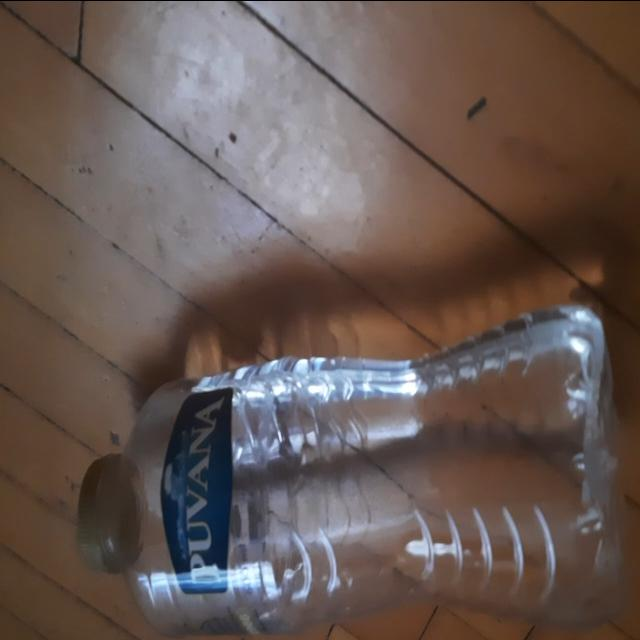Plastic: (77, 300, 640, 639)
